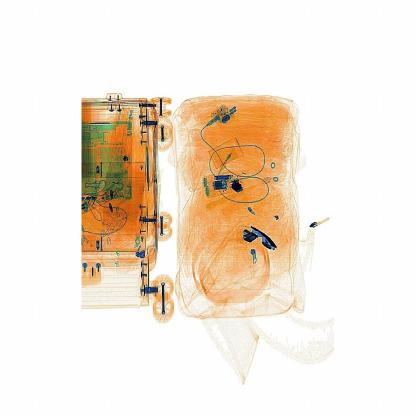knife: (226, 170, 256, 203)
